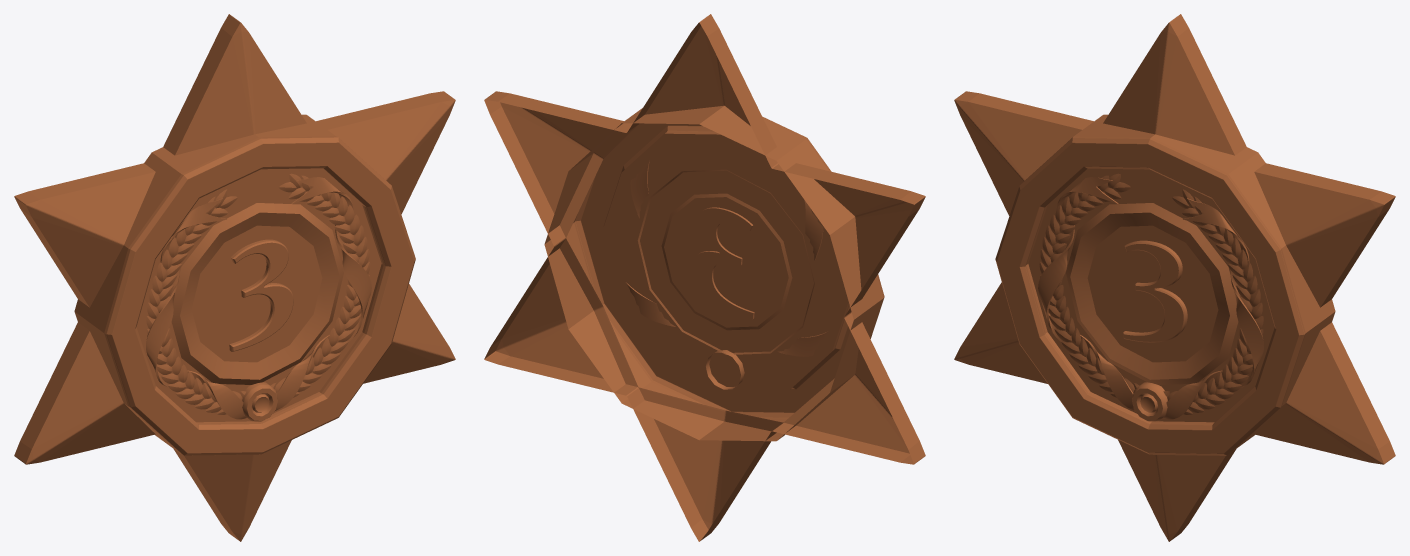
Rendered from BronzeMedal3D.fbx.
3 views of the same model, side by side, from view 1: azimuth 30°, elevation 25°; view 2: azimuth 150°, elevation 25°; view 3: azimuth 330°, elevation 25° (orthographic).
Parts seen in each view (by area): view 1: Star003, Cylinder217, Plane008, Plane009, Text003, Cylinder216; view 2: Star003, Text003, Cylinder217, Plane009, Plane008; view 3: Star003, Cylinder217, Plane009, Plane008, Text003, Cylinder216.
Part boxes in pixels (<box>): Star003: <box>14,14,455,541</box>; Cylinder217: <box>171,203,343,384</box>; Plane008: <box>146,189,246,419</box>; Plane009: <box>270,173,371,410</box>; Text003: <box>229,239,293,351</box>; Cylinder216: <box>242,382,277,421</box>; Star003: <box>484,14,925,541</box>; Text003: <box>691,207,754,319</box>; Cylinder217: <box>637,169,814,354</box>; Plane009: <box>625,159,675,326</box>; Plane008: <box>778,200,828,356</box>; Star003: <box>954,14,1395,541</box>; Cylinder217: <box>1066,203,1238,384</box>; Plane009: <box>1163,189,1263,419</box>; Plane008: <box>1038,173,1139,410</box>; Text003: <box>1123,240,1187,342</box>; Cylinder216: <box>1132,382,1167,421</box>.
Bounding box in the file's own units: 215 × 249 × 29.06.
